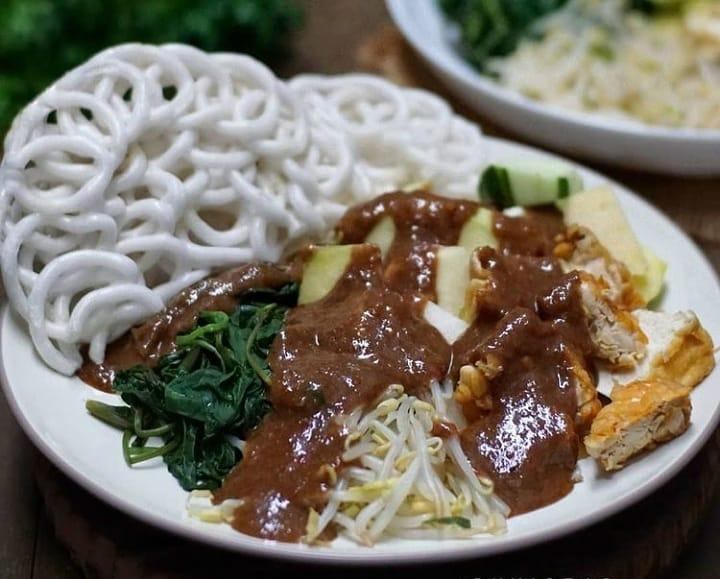rujak_cingur: (2, 42, 720, 553)
